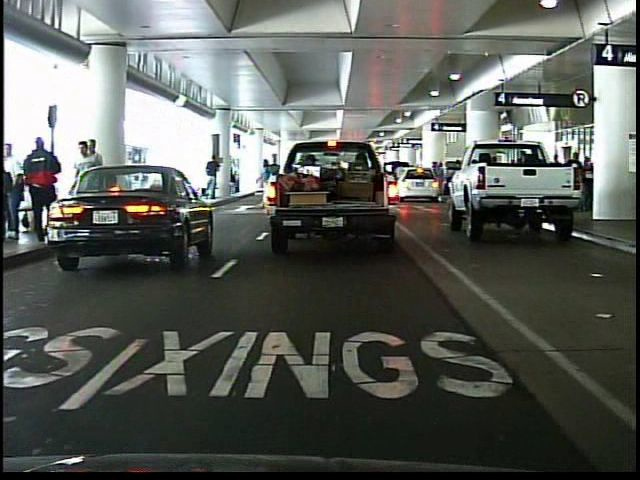person: (20, 135, 63, 245), (87, 133, 109, 229), (254, 154, 277, 206)
